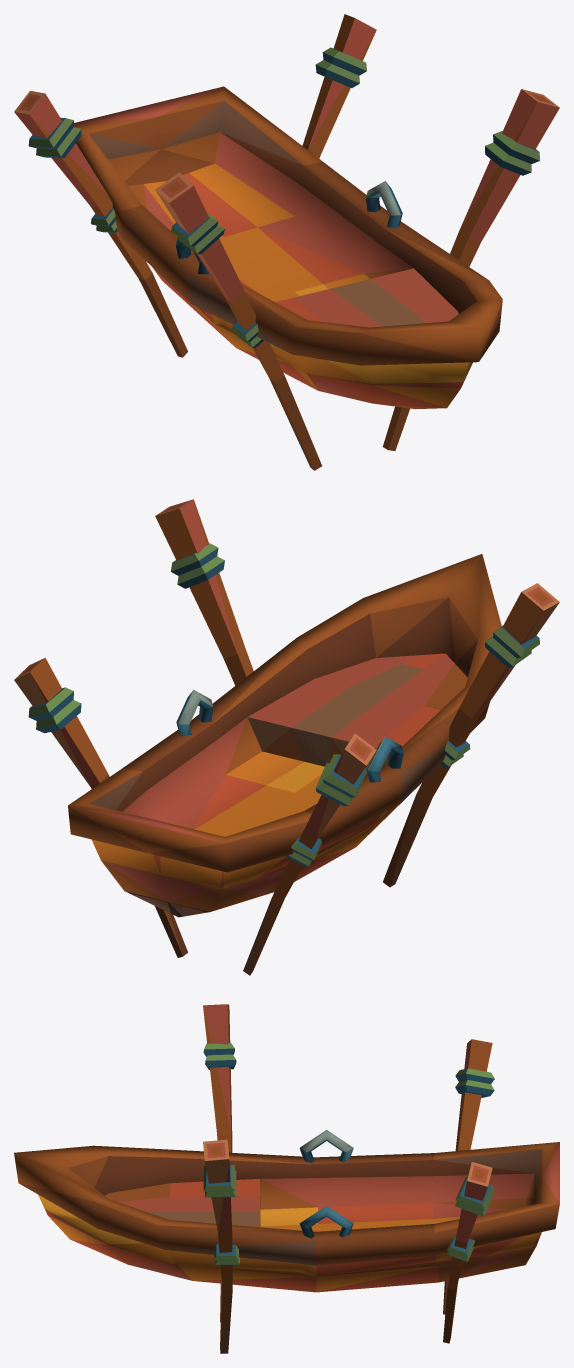
The model's file is itch_fishing_village_boat3.glb.
3 views of the same model, one above another, from view 1: azimuth 30°, elevation 25°; view 2: azimuth 150°, elevation 25°; view 3: azimuth 270°, elevation 25° (orthographic). The views are drawn at different scales.
Visible parts, largest first — view 1: boat3.001; view 2: boat3.001; view 3: boat3.001.
Boxes of the visible parts, <box> form: boat3.001: <box>14,14,559,470</box>; boat3.001: <box>14,499,559,975</box>; boat3.001: <box>14,1004,559,1353</box>.
Size of the model in its own units: 0.6445 by 0.516 by 0.96.
